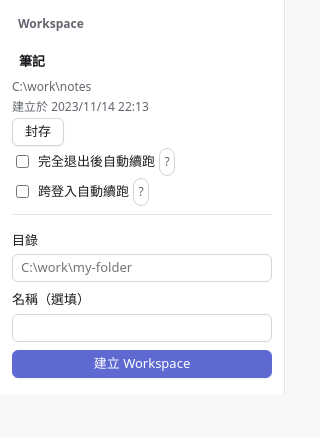
Test: 左側 Workspace 清單 › 設定失敗時顯示原因，勾選維持原狀
The width and height of the screenshot is (320, 438).
Click the checkbox named "完全退出後自動續跑 筆記". click: click(22, 162)
box: left=16, top=155, right=29, bottom=168
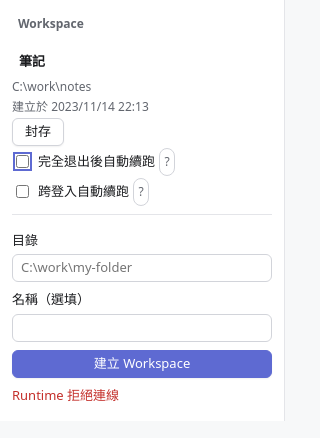
Expected: the message reads "Runtime 拒絕連線", left=12, top=386, right=119, bottom=404
